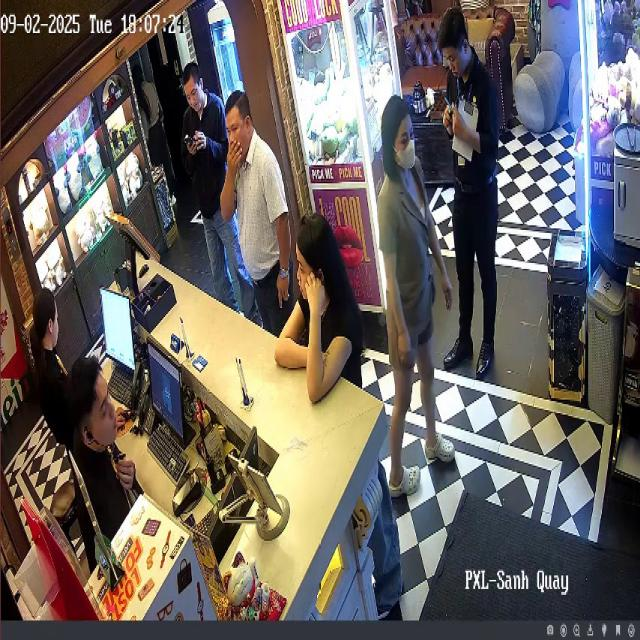khach: (370, 80, 458, 498), (288, 199, 366, 465), (170, 63, 243, 343), (221, 85, 294, 353)
nhan vien: (435, 6, 519, 406), (67, 353, 135, 580), (31, 263, 81, 481)
